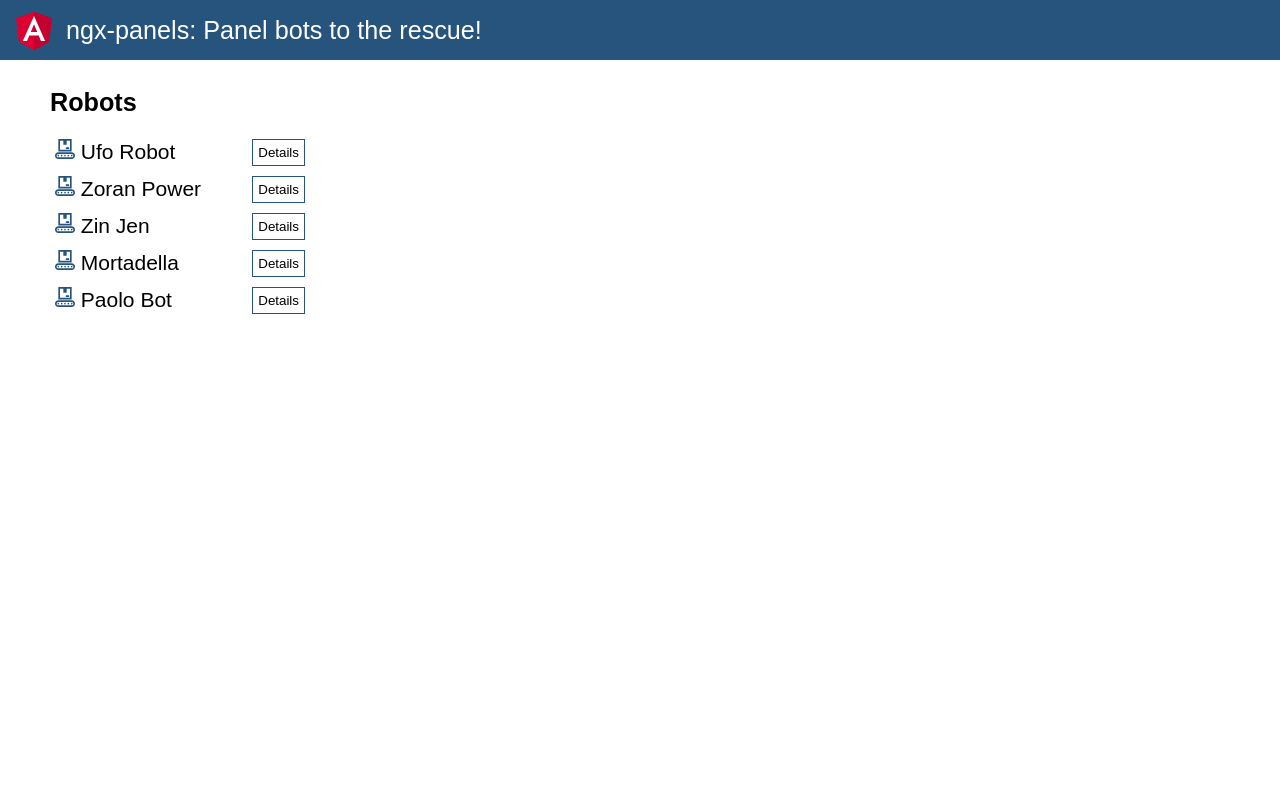
it: Actions › Should open a stacked panel
Click the button with class "app-root__button" next to "Ufo Robot". click: coordinates (279, 153)
box: [252,139,305,166]
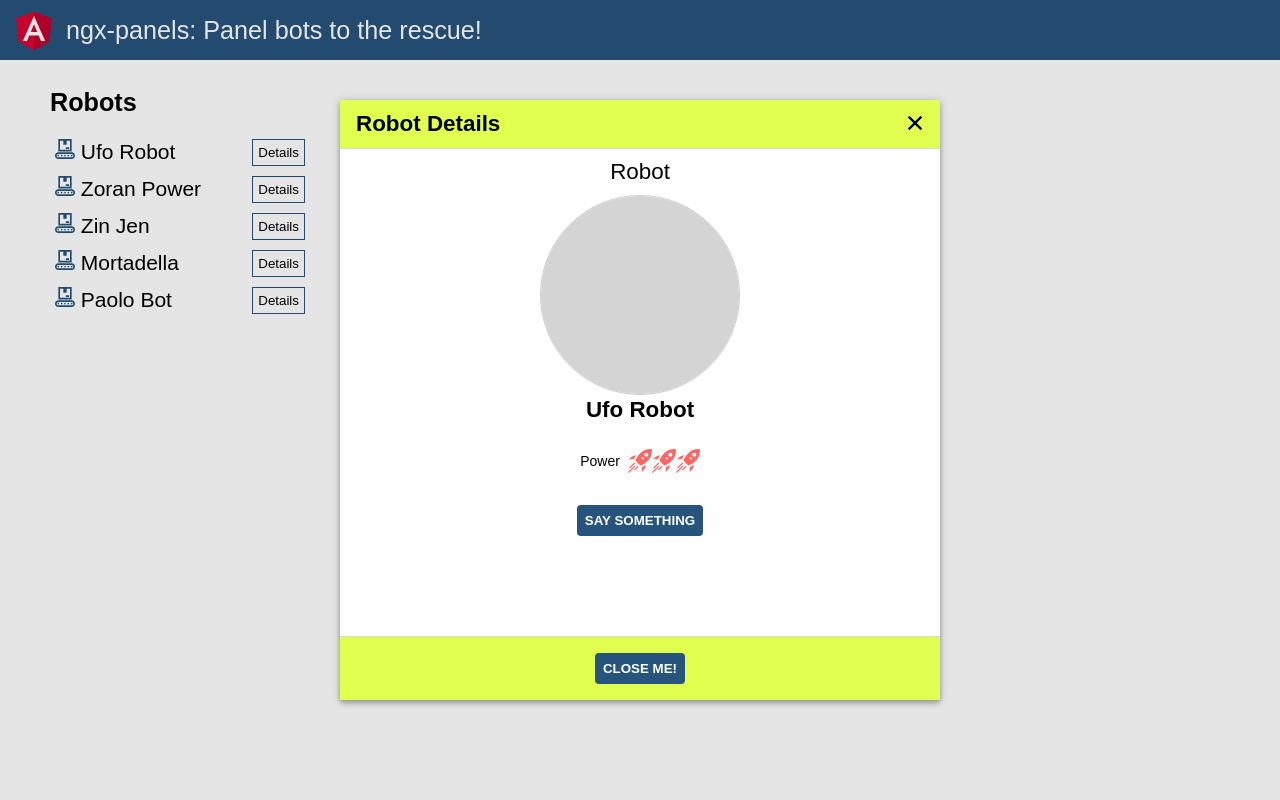
Click the button "Say something". click: coordinates (640, 521)
box: [577,505,703,536]
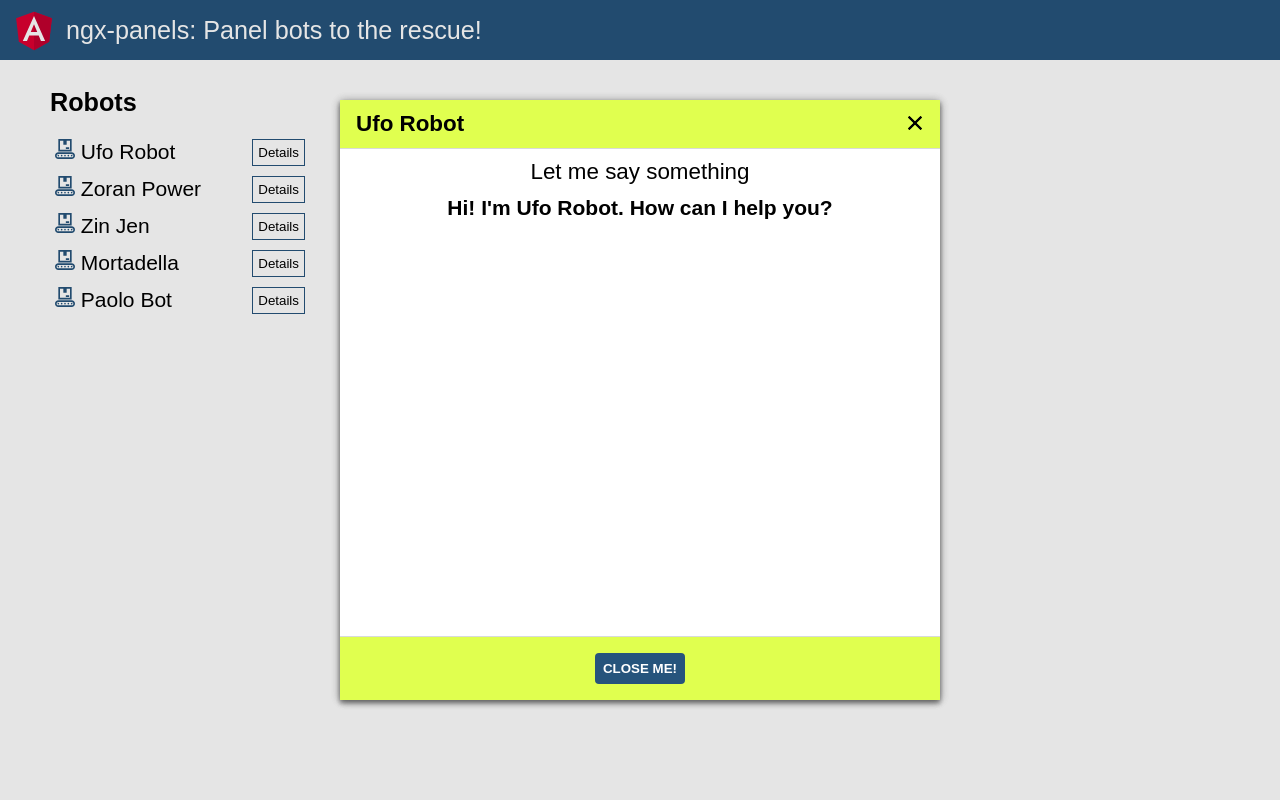
expect the element that starts with "Ufo Robot" is shown: met, box [340,100,940,700]
expect the element showing "Ufo Robot" is shown: met, box [356,117,464,131]
